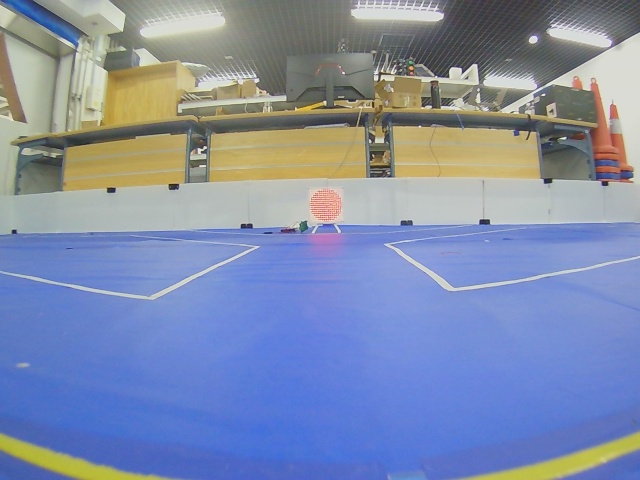red: (310, 188, 343, 223)
